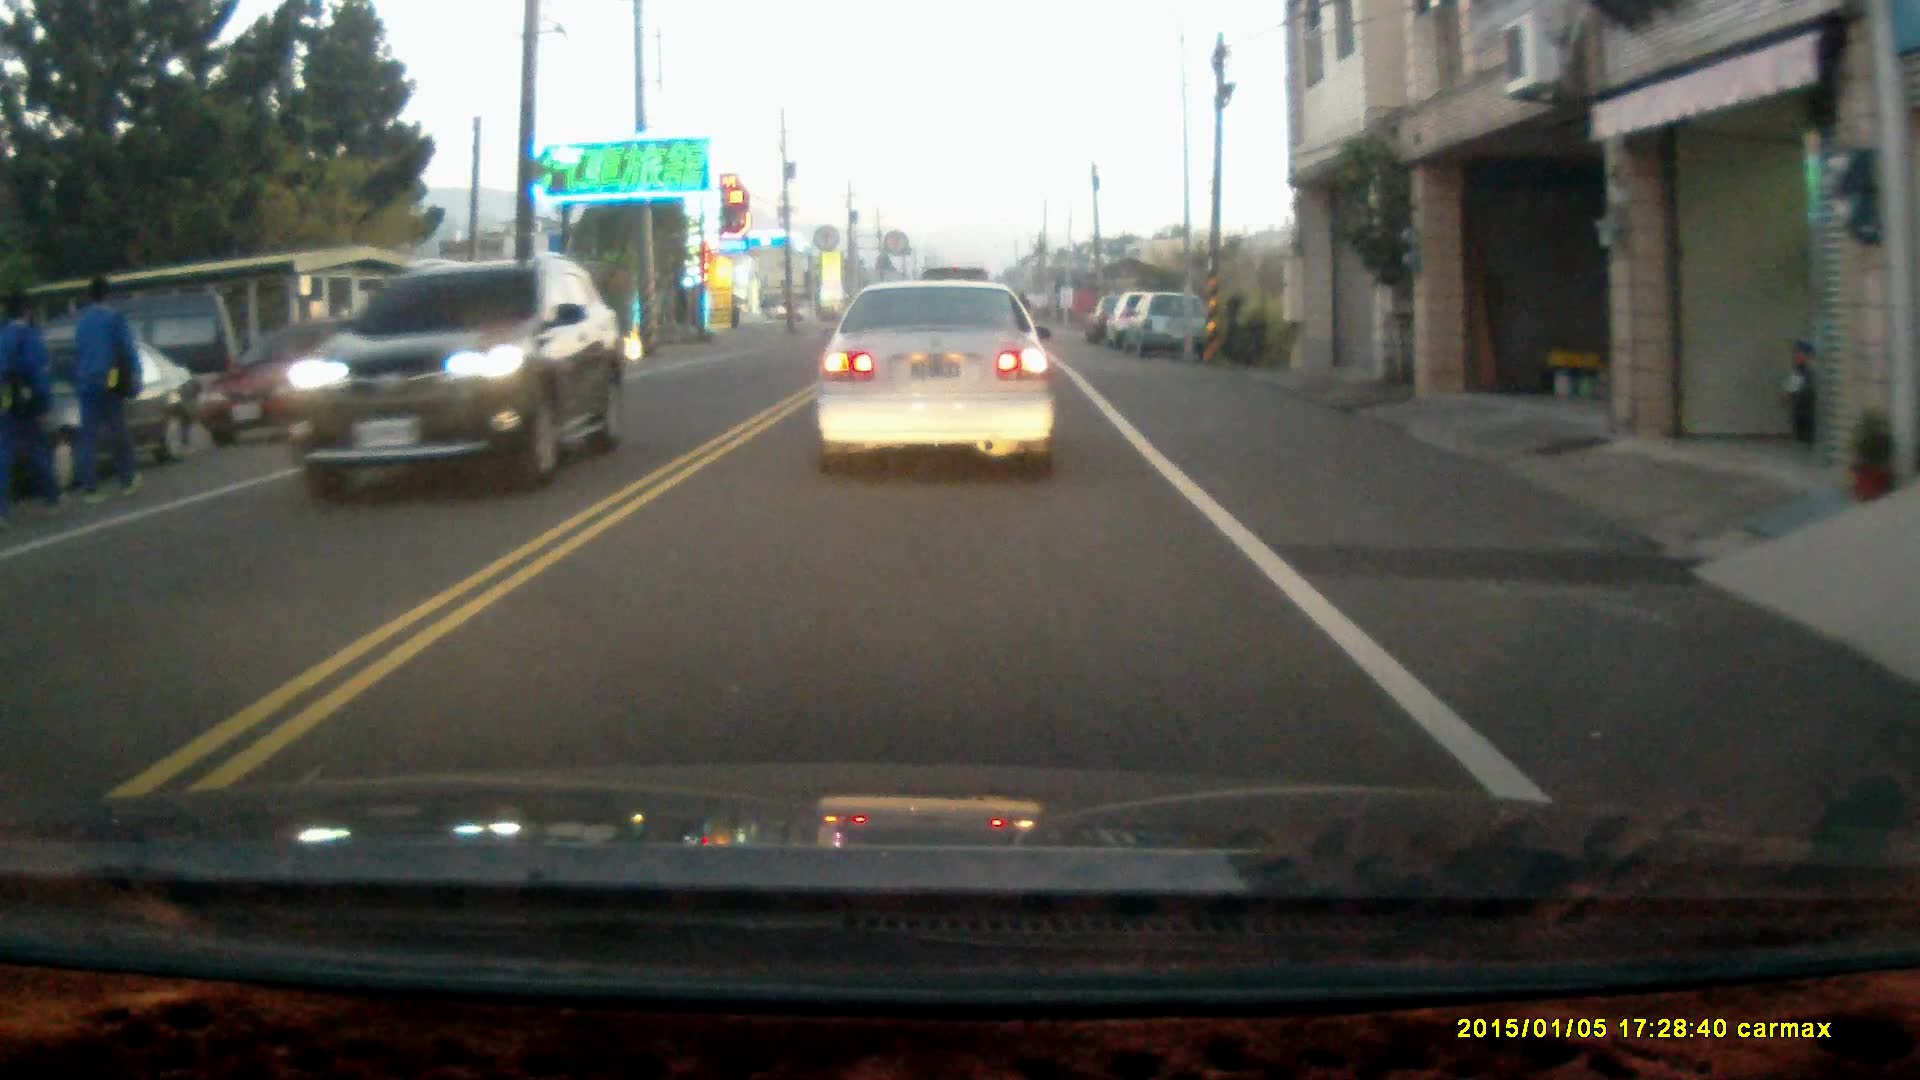pedestrian: (68, 273, 144, 506), (4, 284, 61, 522)
vehicle: (287, 257, 633, 493), (811, 280, 1062, 480), (1, 327, 211, 500), (207, 314, 401, 453), (1122, 294, 1212, 362)
